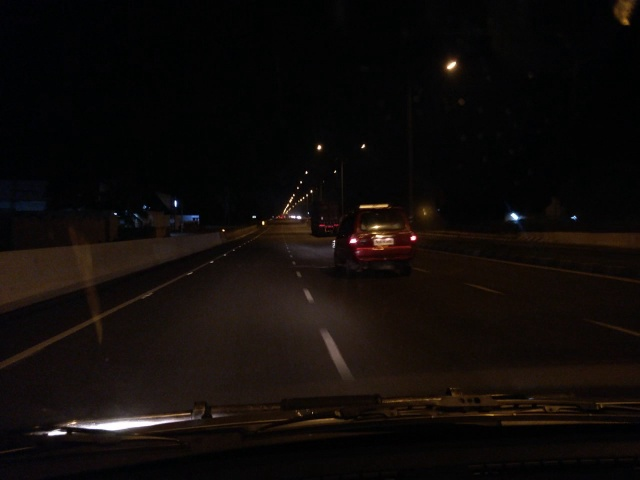car: (335, 203, 424, 280)
truck: (307, 203, 341, 238)
